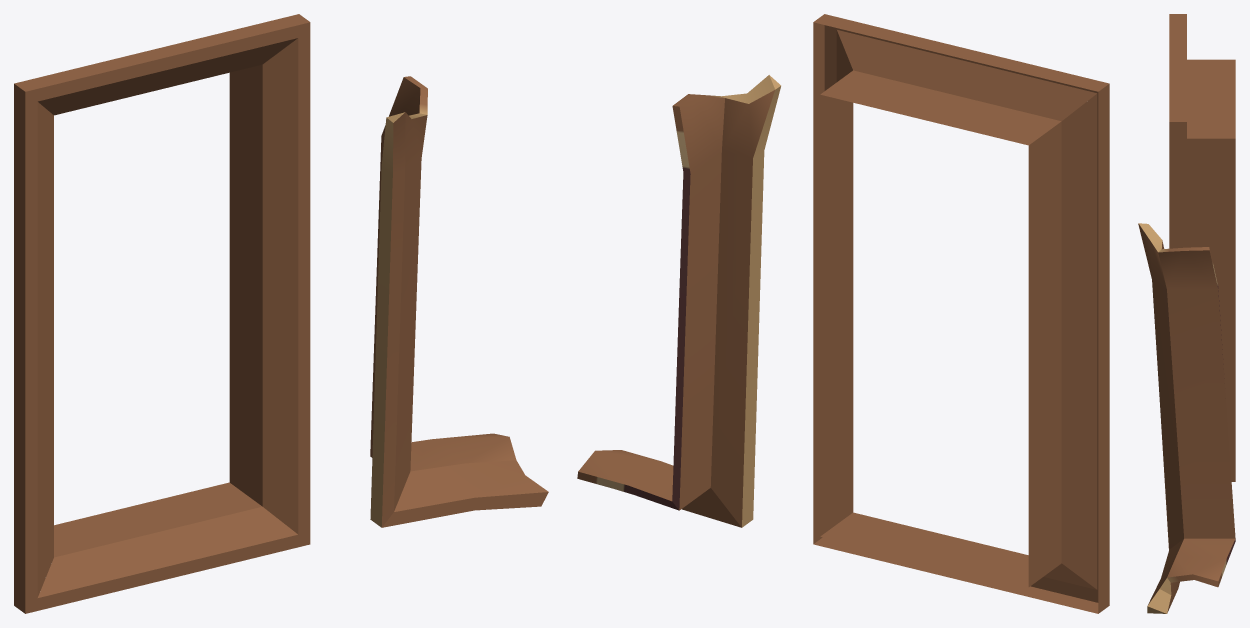
File: DBK_WinDouble_Trim_C_Side.fbx
3 views of the same model, side by side, from view 1: azimuth 30°, elevation 25°; view 2: azimuth 150°, elevation 25°; view 3: azimuth 270°, elevation 25° (orthographic). The views are drawn at different scales.
Visible parts, largest first — view 1: DBK_WinDouble_Trim_C_Side; view 2: DBK_WinDouble_Trim_C_Side; view 3: DBK_WinDouble_Trim_C_Side.
Boxes of the visible parts, <box> form: DBK_WinDouble_Trim_C_Side: <box>14,14,548,613</box>; DBK_WinDouble_Trim_C_Side: <box>577,14,1109,613</box>; DBK_WinDouble_Trim_C_Side: <box>1138,14,1235,613</box>.
Bounding box in the file's own units: 143 × 141 × 30.4.
